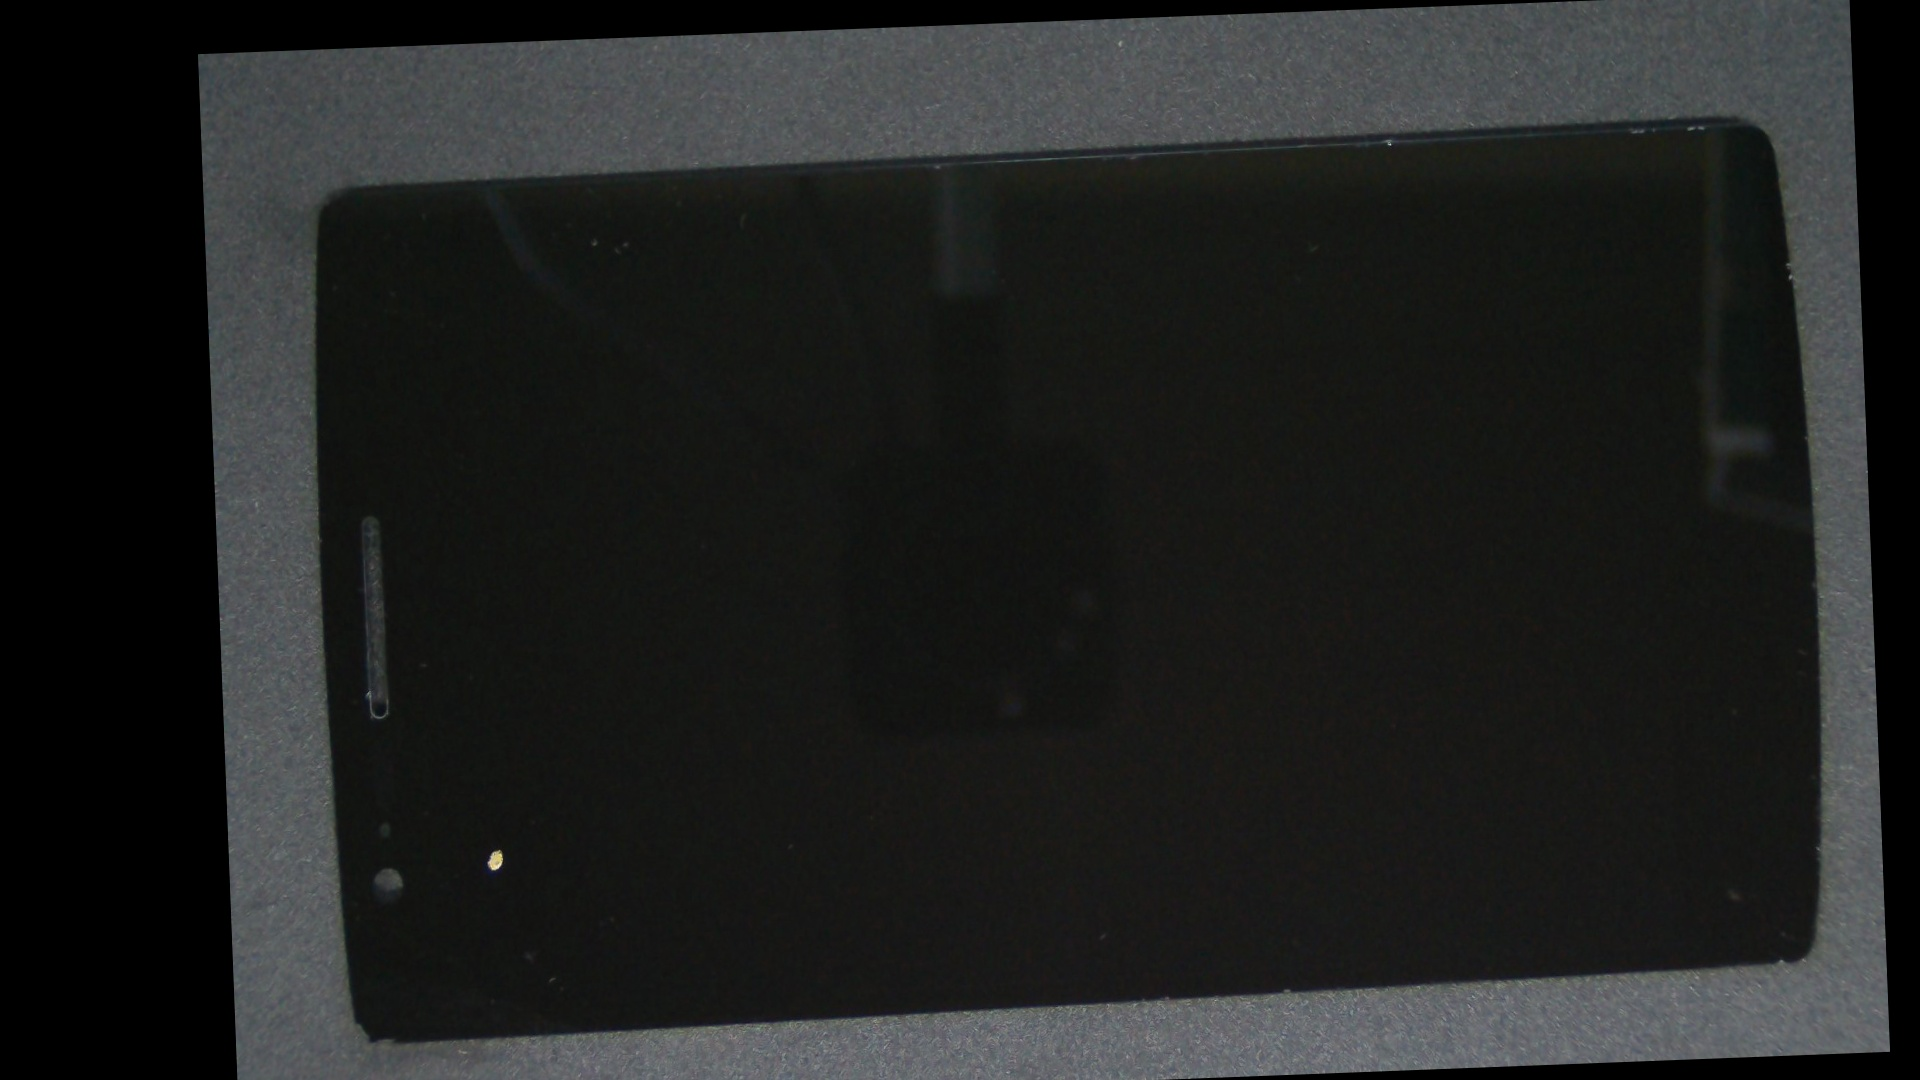oil: (349, 440, 644, 1080)
